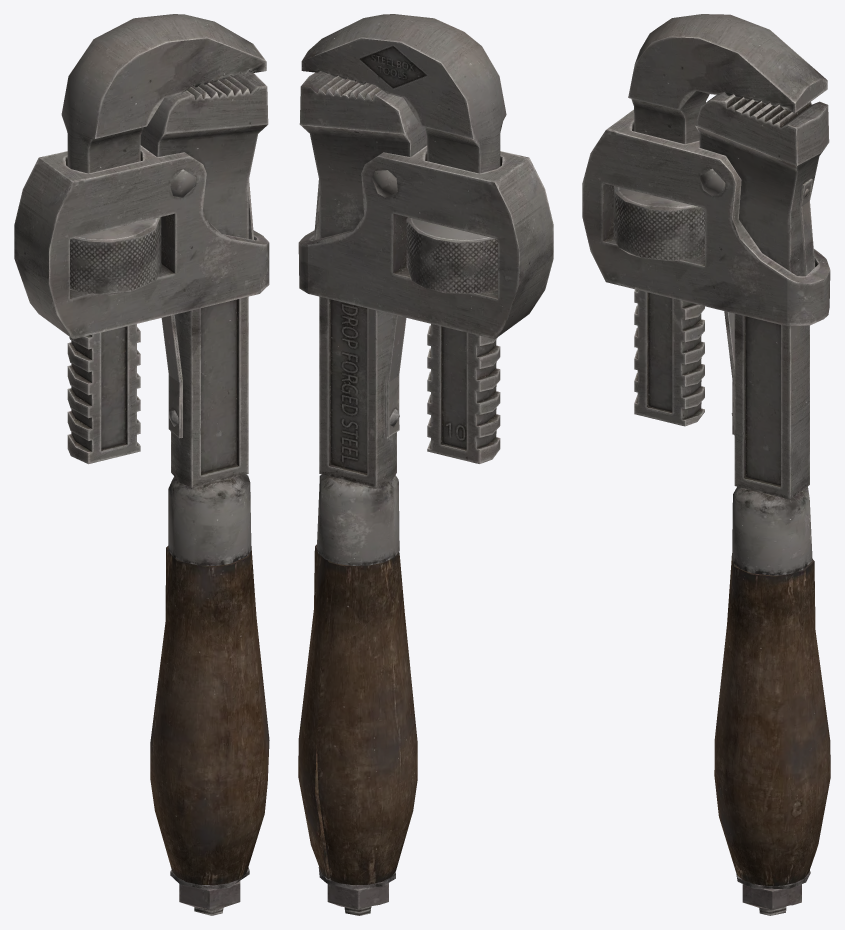
File: adjustable_wrench.glb
3 renders of one model, left to right at view 1: azimuth 30°, elevation 25°; view 2: azimuth 150°, elevation 25°; view 3: azimuth 330°, elevation 25°, orthographic. The views are drawn at different scales.
Visible parts, largest first — view 1: adjustable_wrench_jaw; view 2: adjustable_wrench_jaw; view 3: adjustable_wrench_jaw.
Part boxes in pixels (x1=…): adjustable_wrench_jaw: x1=14, y1=14, x2=269, y2=915; adjustable_wrench_jaw: x1=298, y1=14, x2=553, y2=915; adjustable_wrench_jaw: x1=582, y1=14, x2=830, y2=915.
Size of the model in its own units: 0.068 by 0.2534 by 0.0305.
Materials: 1 (1 with a texture image).
